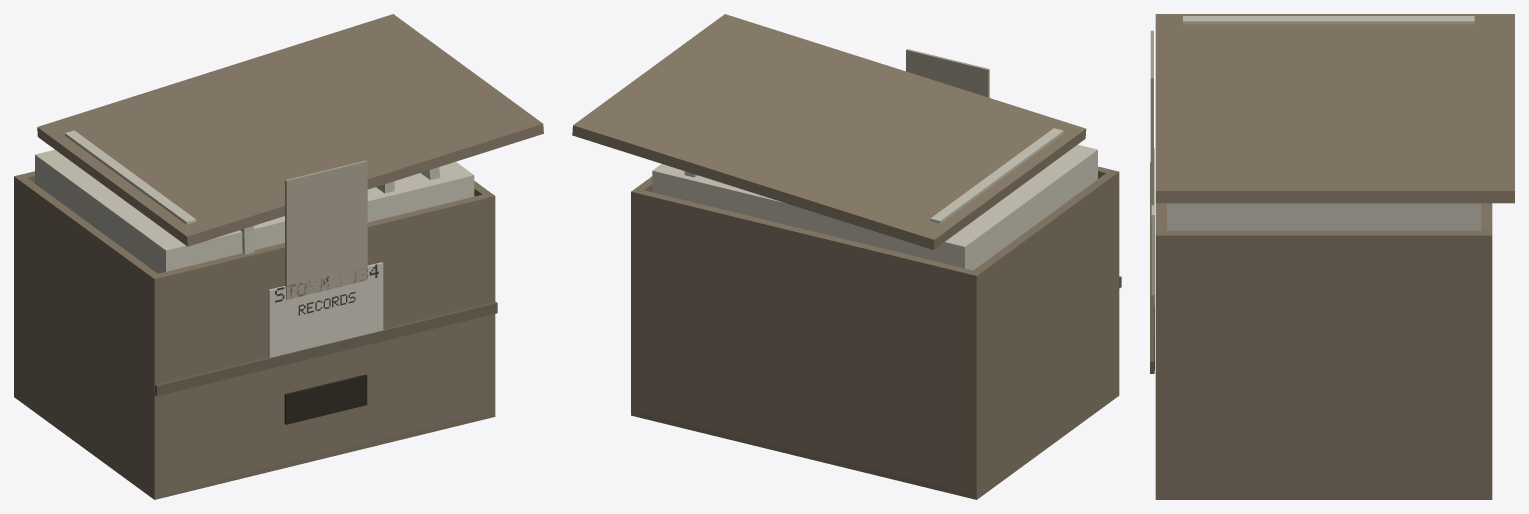
File: storm_archive_box_a.glb
The picture shows the model from 3 angles, left to right: view 1: azimuth 30°, elevation 25°; view 2: azimuth 150°, elevation 25°; view 3: azimuth 270°, elevation 25°; orthographic projection. The views are drawn at different scales.
Parts seen in each view (by area): view 1: body; view 2: body; view 3: body.
Part boxes in pixels (x1=…): body: x1=14, y1=14, x2=543, y2=499; body: x1=572, y1=14, x2=1121, y2=499; body: x1=1150, y1=14, x2=1514, y2=499.
Size of the model in its own units: 0.4799 by 0.34 by 0.325.
